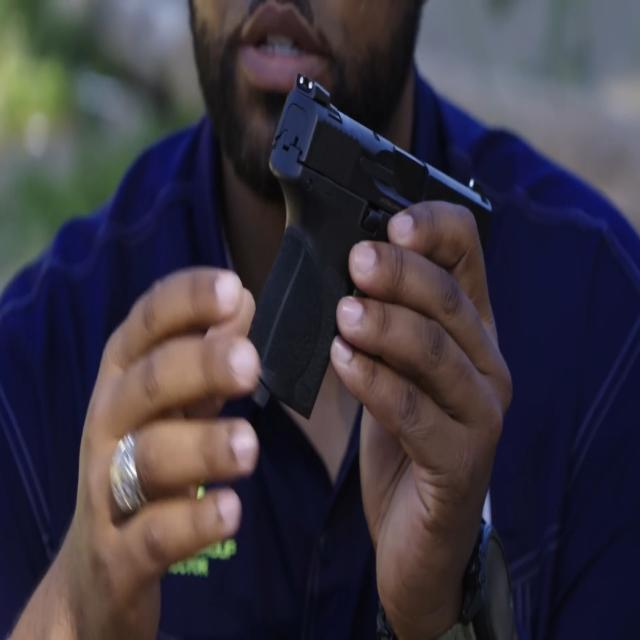handgun: (224, 74, 506, 414)
